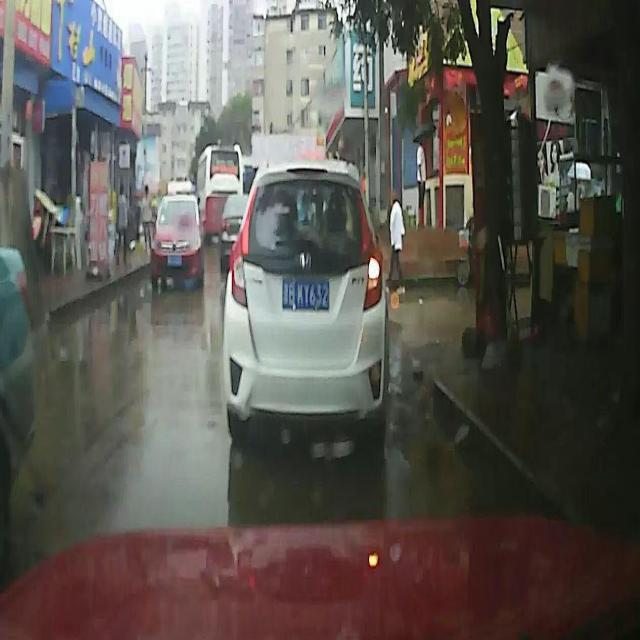car: (224, 165, 388, 442), (152, 190, 204, 292)
